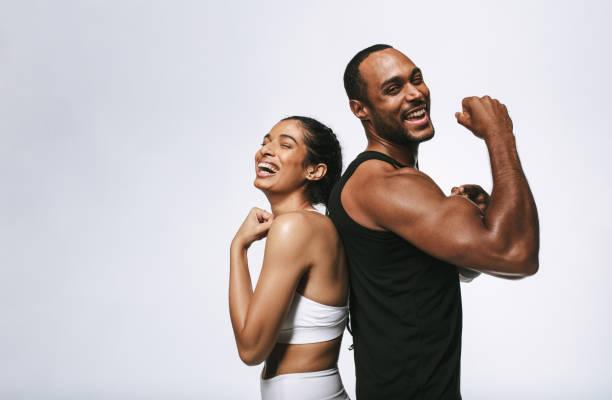Pessoa: (328, 45, 538, 399), (229, 116, 348, 399)
